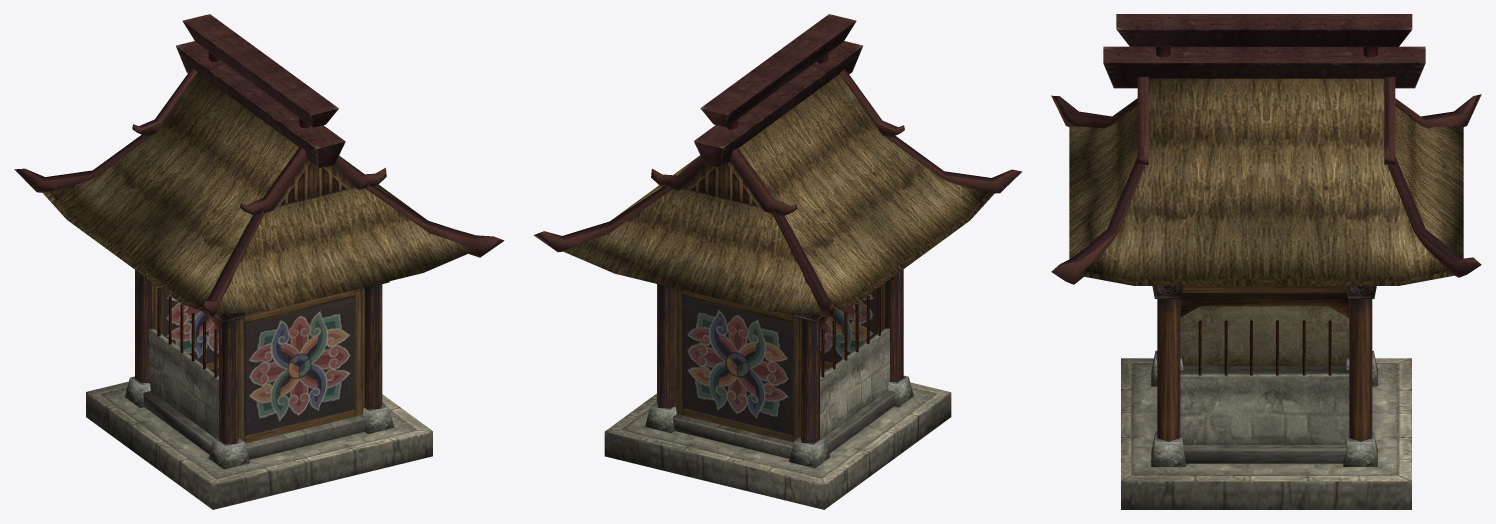
File: fortms_build_totem.fbx
The picture shows the model from 3 angles, left to right: view 1: azimuth 30°, elevation 25°; view 2: azimuth 150°, elevation 25°; view 3: azimuth 270°, elevation 25°; orthographic projection. The views are drawn at different scales.
Visible parts, largest first — view 1: fortMS_build_totem, fortMS_build_totem_top; view 2: fortMS_build_totem, fortMS_build_totem_top; view 3: fortMS_build_totem, fortMS_build_totem_top.
Part boxes in pixels (x1,y1,x2,y2): fortMS_build_totem: (14,67,504,509); fortMS_build_totem_top: (176,14,345,168); fortMS_build_totem: (533,69,1021,509); fortMS_build_totem_top: (694,14,862,168); fortMS_build_totem: (1051,77,1481,509); fortMS_build_totem_top: (1103,14,1425,88).
Size of the model in its own units: 5.14 by 6.04 by 5.53.
